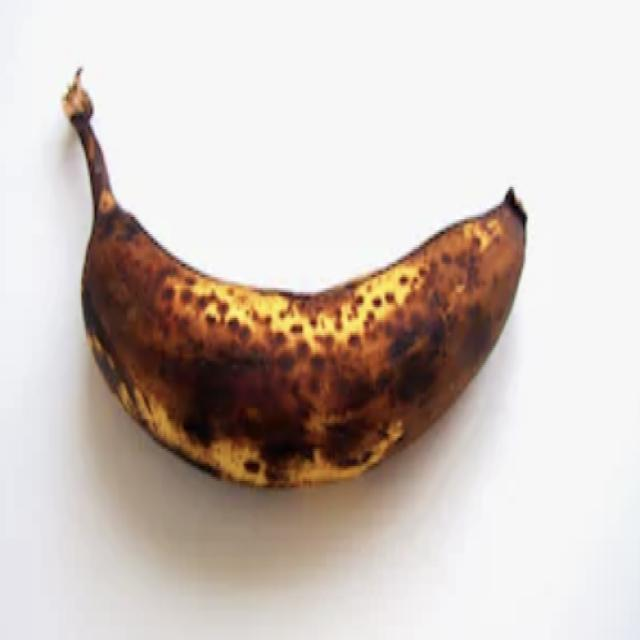rotten-banana: (59, 62, 528, 490)
